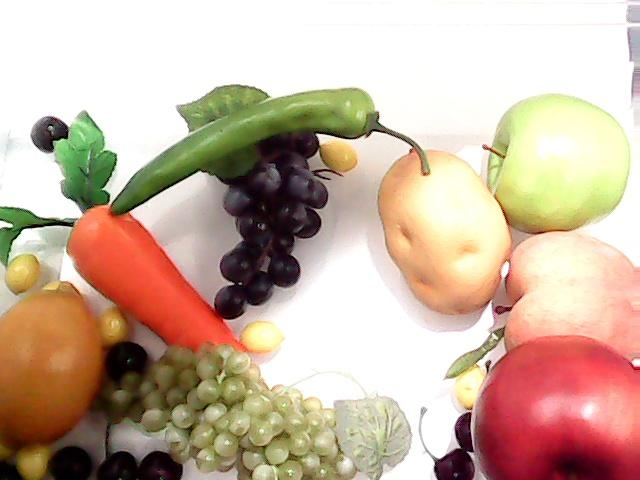apple: (468, 332, 640, 480), (471, 92, 629, 244)
carrot: (0, 109, 248, 357)
grape: (170, 83, 338, 325), (119, 350, 373, 480)
lemon: (1, 272, 108, 456)
peach: (496, 230, 640, 364)
pepper: (104, 80, 432, 228)
potato: (374, 148, 514, 316)
